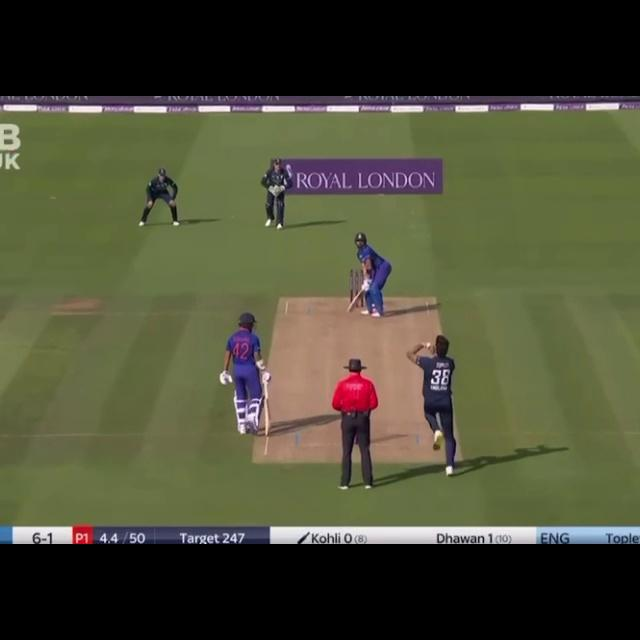umpire: (323, 352, 387, 493)
